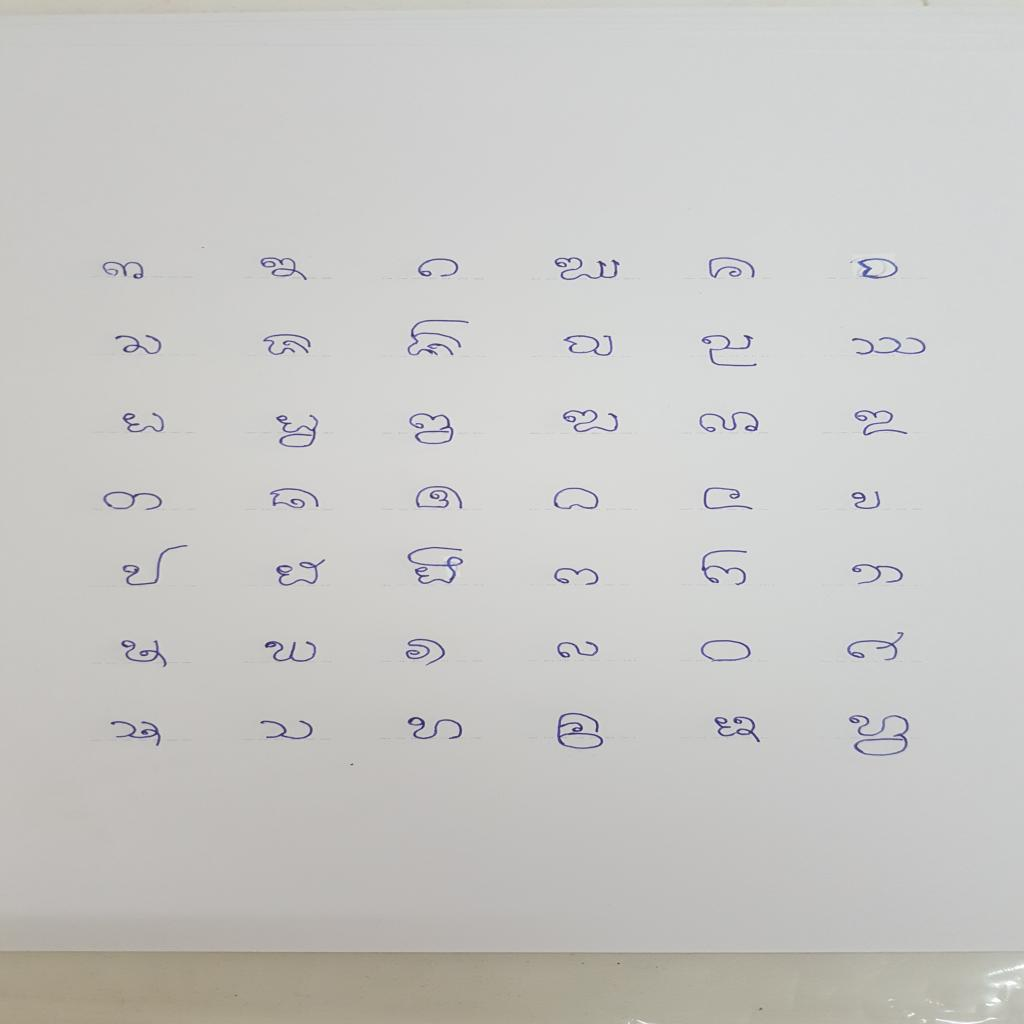LN001: (96, 259, 151, 283)
LN002: (255, 255, 313, 285)
LN003: (412, 257, 465, 281)
LN004: (548, 255, 628, 285)
LN005: (701, 255, 763, 283)
LN006: (853, 256, 905, 283)
LN007: (107, 331, 169, 359)
LN008: (257, 332, 318, 361)
LN010: (559, 332, 619, 360)
LN011: (696, 333, 766, 371)
LN012: (846, 335, 933, 359)
LN013: (118, 411, 171, 437)
LN014: (271, 412, 326, 452)
LN015: (405, 411, 461, 449)
LN016: (558, 407, 626, 436)
LN017: (694, 410, 766, 436)
LN018: (849, 408, 915, 441)
LN019: (99, 490, 168, 514)
LN020: (264, 486, 327, 513)
LN021: (411, 485, 471, 514)
LN022: (548, 485, 606, 514)
LN023: (698, 485, 761, 515)
LN025: (118, 544, 195, 590)
LN026: (272, 558, 334, 589)
LN027: (403, 545, 469, 589)
LN028: (548, 565, 605, 589)
LN029: (698, 548, 755, 590)
LN030: (845, 561, 910, 590)
LN031: (112, 636, 175, 672)
LN032: (259, 638, 324, 666)
LN033: (400, 635, 452, 670)
LN034: (549, 637, 607, 663)
LN035: (695, 637, 758, 666)
LN036: (839, 630, 913, 666)
LN038: (251, 717, 321, 744)
LN039: (402, 714, 471, 744)
LN040: (551, 710, 610, 754)
LN041: (709, 714, 767, 748)
LN042: (843, 711, 916, 761)
